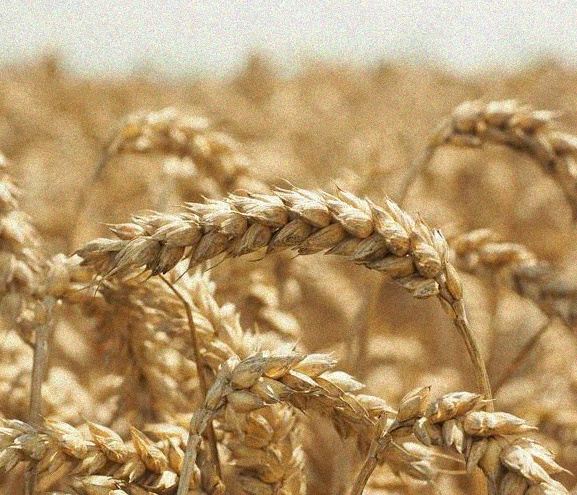wheat: (194, 345, 561, 495), (54, 183, 465, 316)
